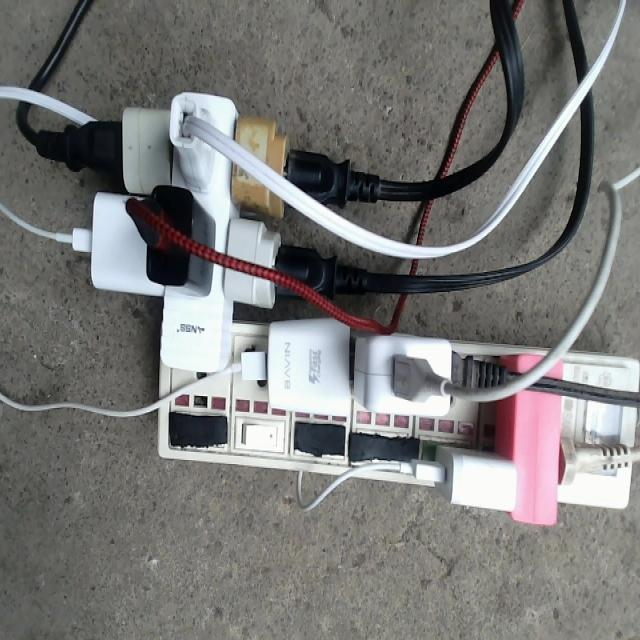-: (62, 84, 634, 528)
